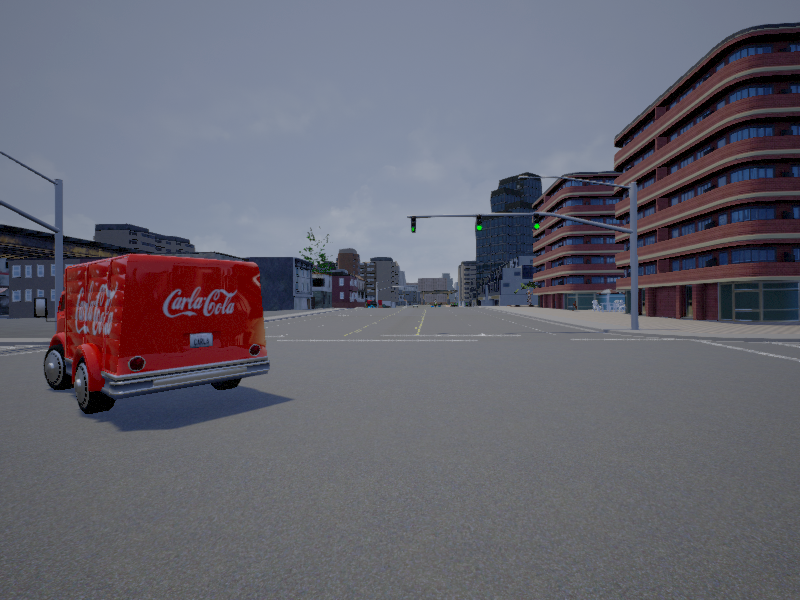Benign: (34, 255, 271, 414)
